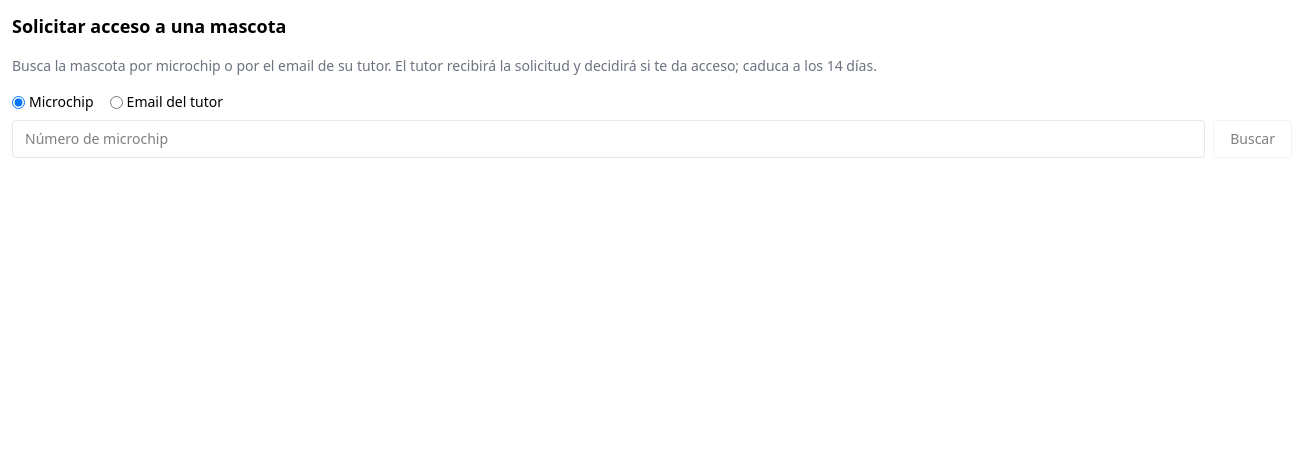
CareLinkRequestPanel (FE-008, PRD-020) › busca por microchip, muestra el tutor enmascarado y envía la solicitud
This screenshot has width=1304, height=465.
Type " 982000123456789 " into the field with id "lookup-term". click: [609, 139]
box: [12,120,1205,158]
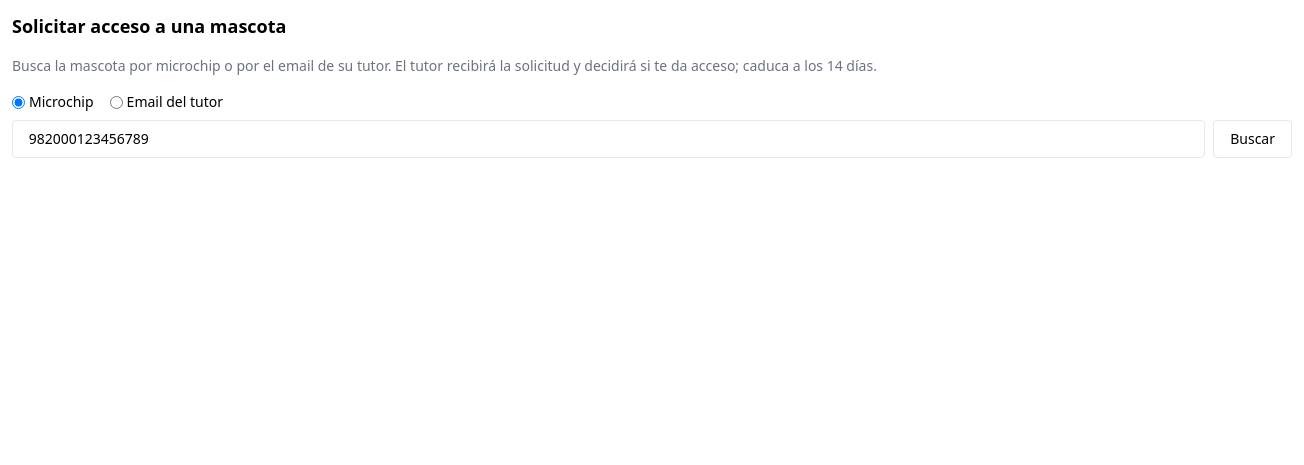
Submit the form, box [12,92,1292,158]
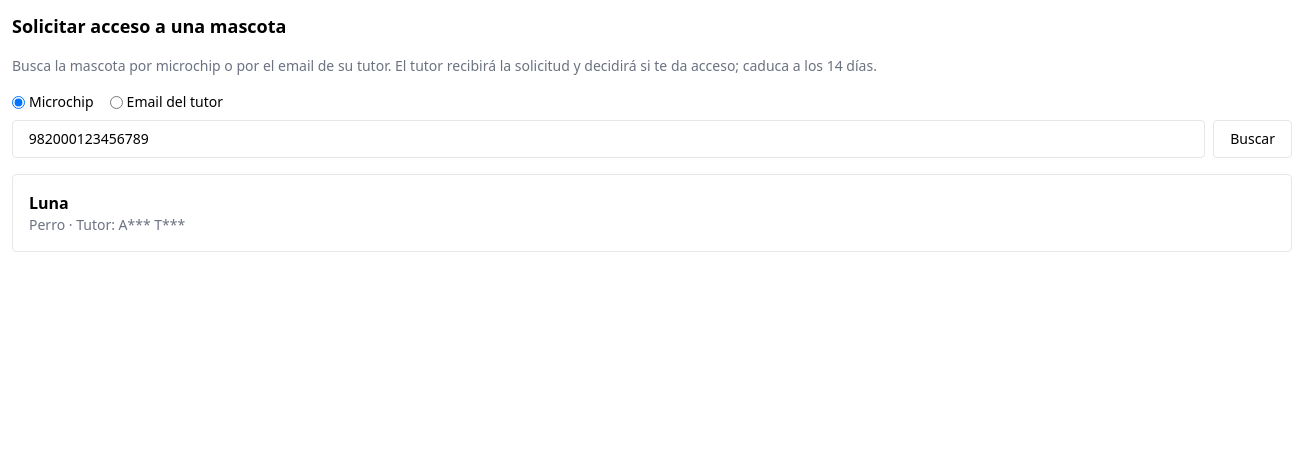
expect the button with test id "lookup-result" shows "A*** T***": met
Click the button with test id "lookup-result". click: [49, 203]
box: [12,174,1292,252]
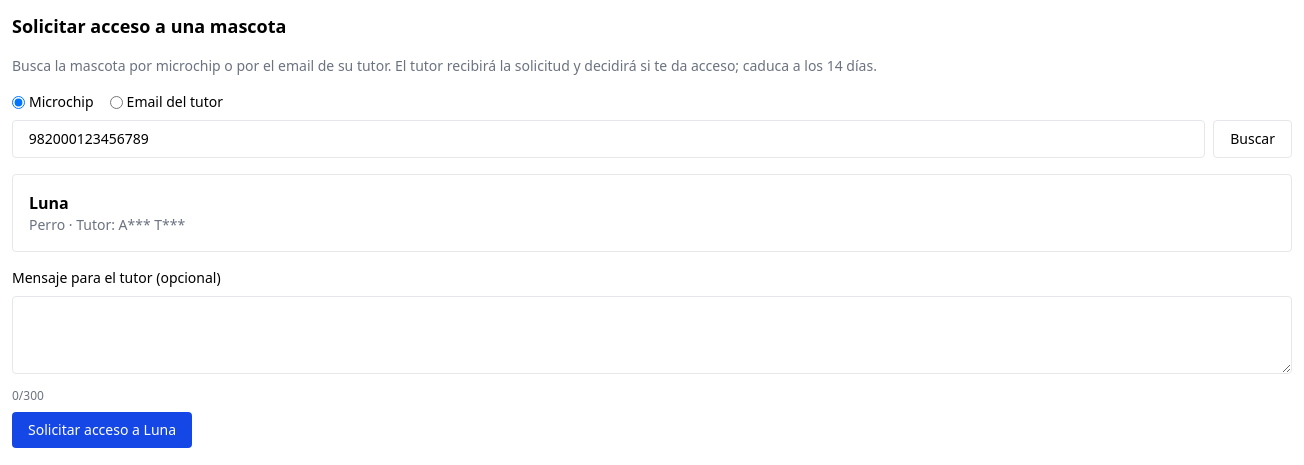
Type "Atendemos a Luna" into the text box with id "request-message". click: [652, 335]
box: [12,296,1292,374]
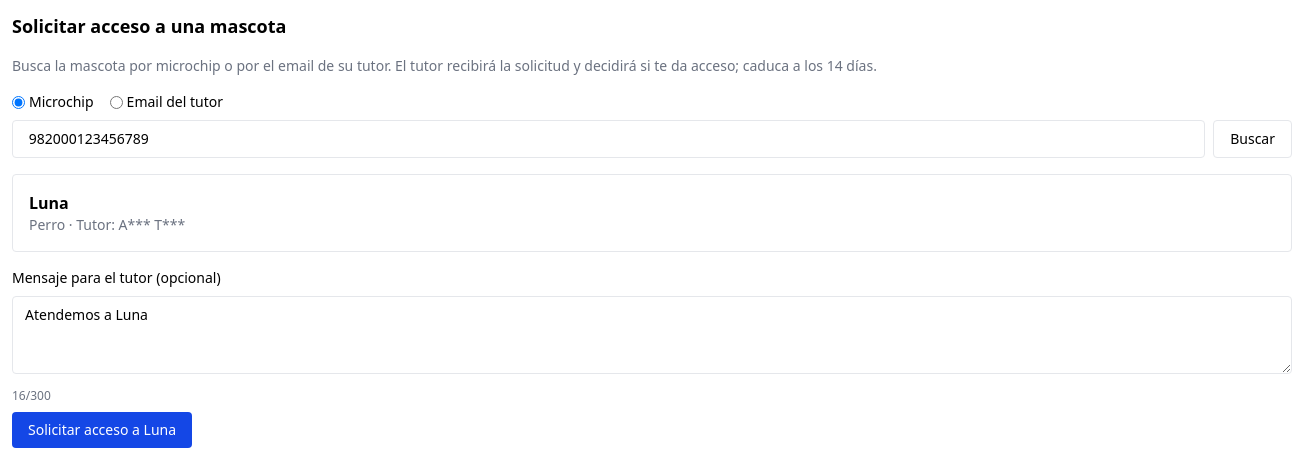
Submit the form that starts with "Mensaje para el tutor (opcional)", box [12,268,1292,448]
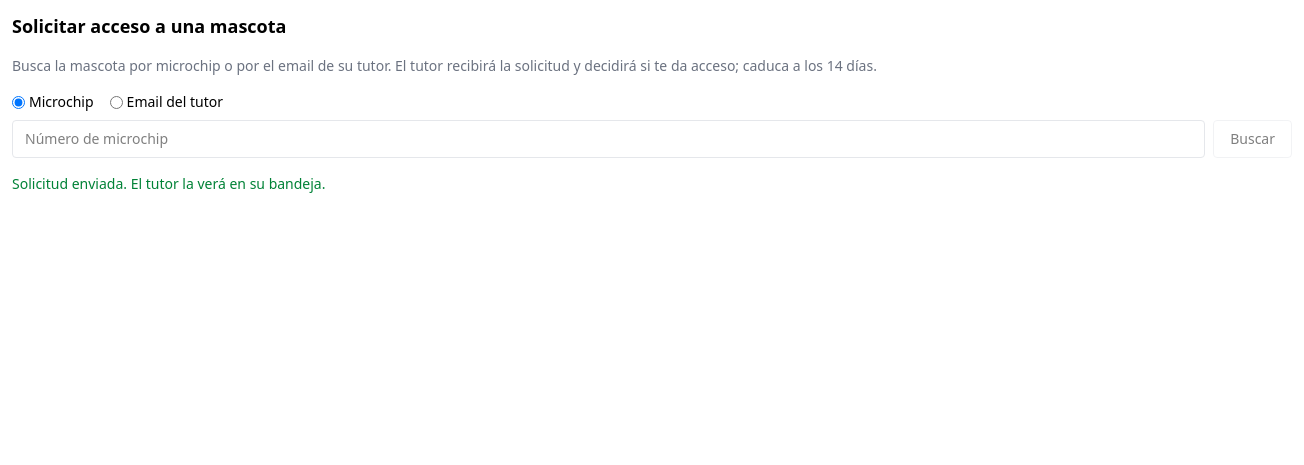
expect the message "Solicitud enviada. El tutor la verá en su bandeja." is shown: met, box [12,174,326,193]
